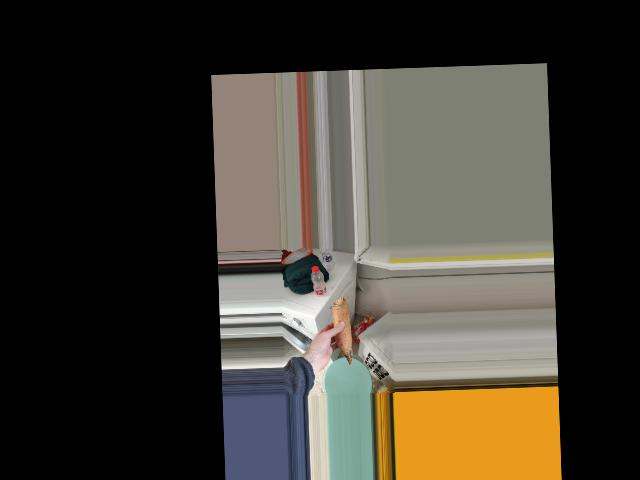sweet_potato: (327, 294, 354, 366)
